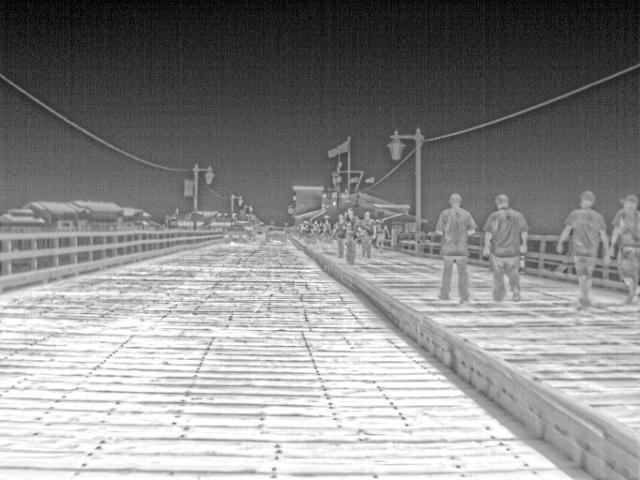car: (221, 221, 251, 243), (262, 224, 289, 244)
person: (555, 188, 612, 314), (479, 193, 528, 299), (433, 190, 475, 302), (607, 193, 639, 308), (340, 206, 362, 262), (358, 210, 376, 260), (373, 218, 391, 255), (330, 214, 347, 239)
